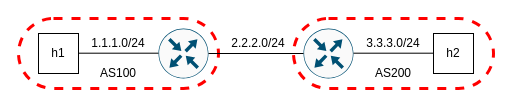
The diagram is 512 pixels wide and 107 high, and some of its shapes have lost their labels. Here are the shapes that lost their labels. From the top down, the centre of each, then its label:
pixel 183 53: r1
pixel 328 53: r2
